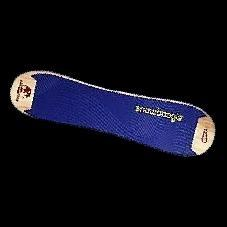Snowboard: (9, 69, 216, 157)
